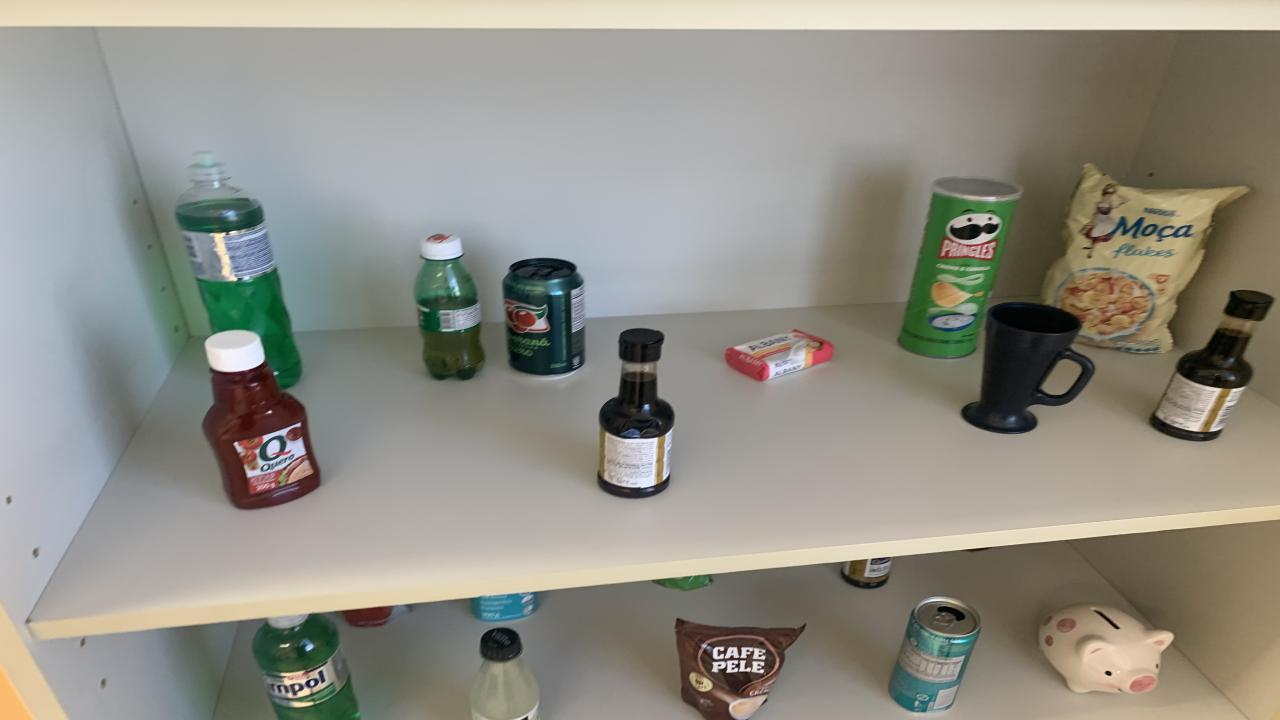Cleaner-Cleanup_Items: (470, 592, 540, 622)
Coffee-Pantry_Items: (675, 619, 805, 720)
Detergent-Cleanup_Items: (175, 152, 300, 388), (252, 613, 360, 720)
English_Sauce-Pantry_Items: (1150, 291, 1272, 441), (598, 328, 675, 497), (842, 557, 892, 589)
Flakes-Snacks: (1040, 165, 1248, 352)
Guarana-Drinks: (415, 234, 485, 381)
Guarana_Can-Drinks: (502, 259, 585, 375)
Ketchup-Pantry_Items: (202, 330, 320, 508)
Pig_Safe-Miscellaneous: (1038, 604, 1175, 694)
Pringles-Snacks: (898, 176, 1020, 358)
Soap-Cleanup_Items: (725, 330, 832, 381)
Soda-Drinks: (470, 628, 540, 720)
Tea-Drinks: (890, 596, 980, 712)
Tomato_Sauce-Pantry_Items: (342, 606, 410, 628)
